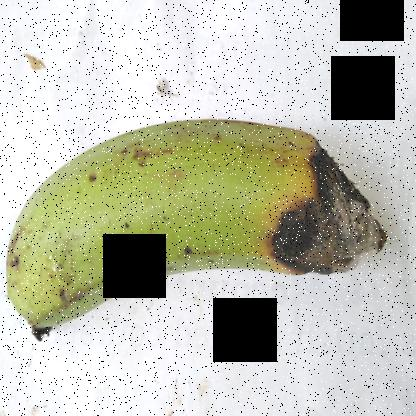rotten: (234, 110, 390, 293)
unripe: (0, 111, 259, 355)
